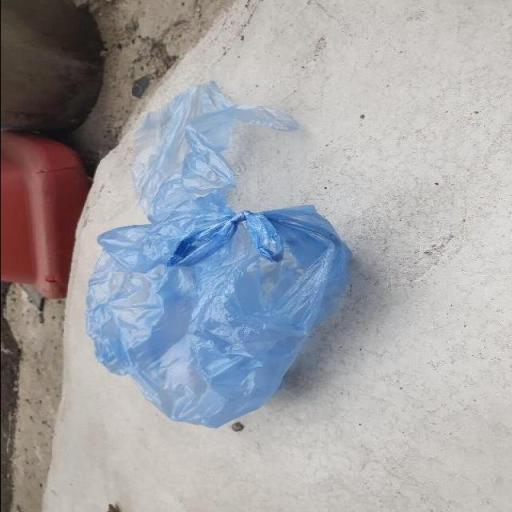plastic-bag: (80, 77, 356, 430)
